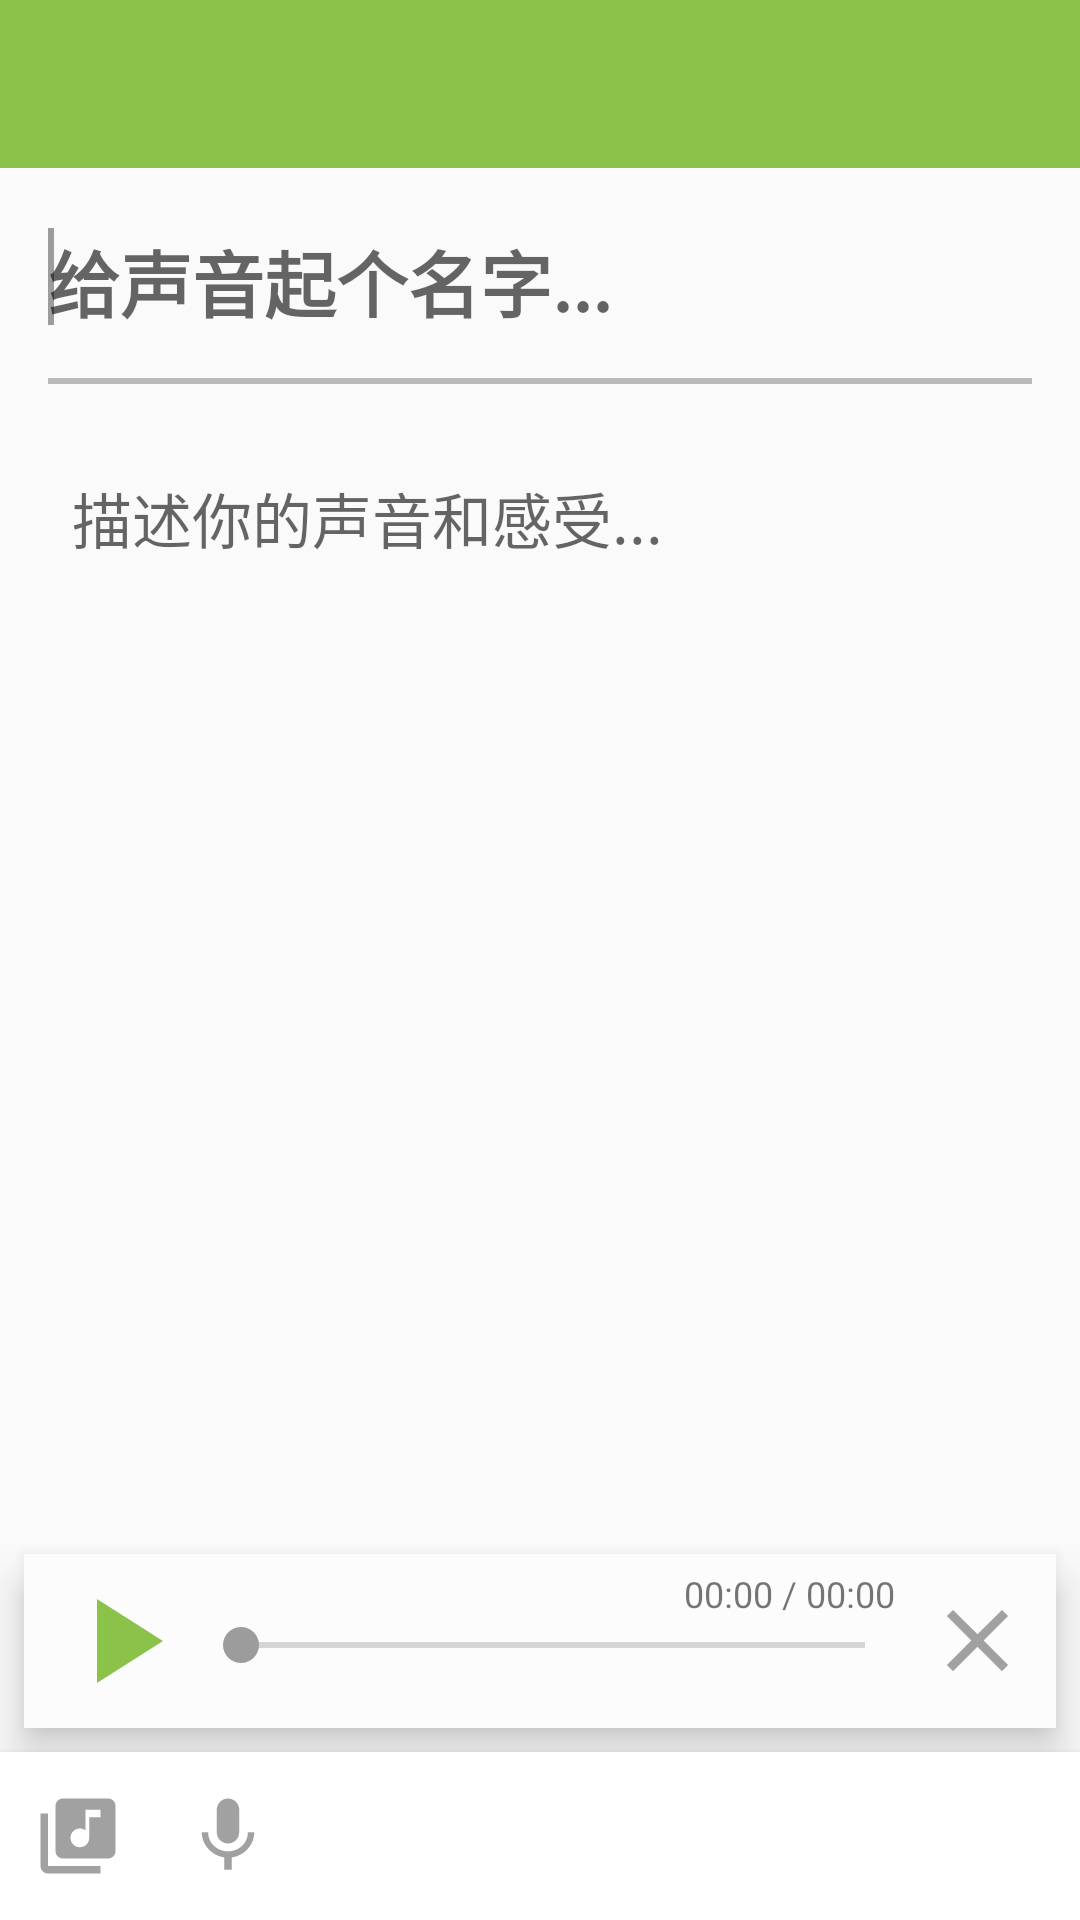

Named icons in this screenshot (1080px×1920px) and their centers, point (x, y):
clear: point (977, 1640)
play arrow: point (130, 1641)
录音: point (228, 1834)
选择音频: point (78, 1836)
